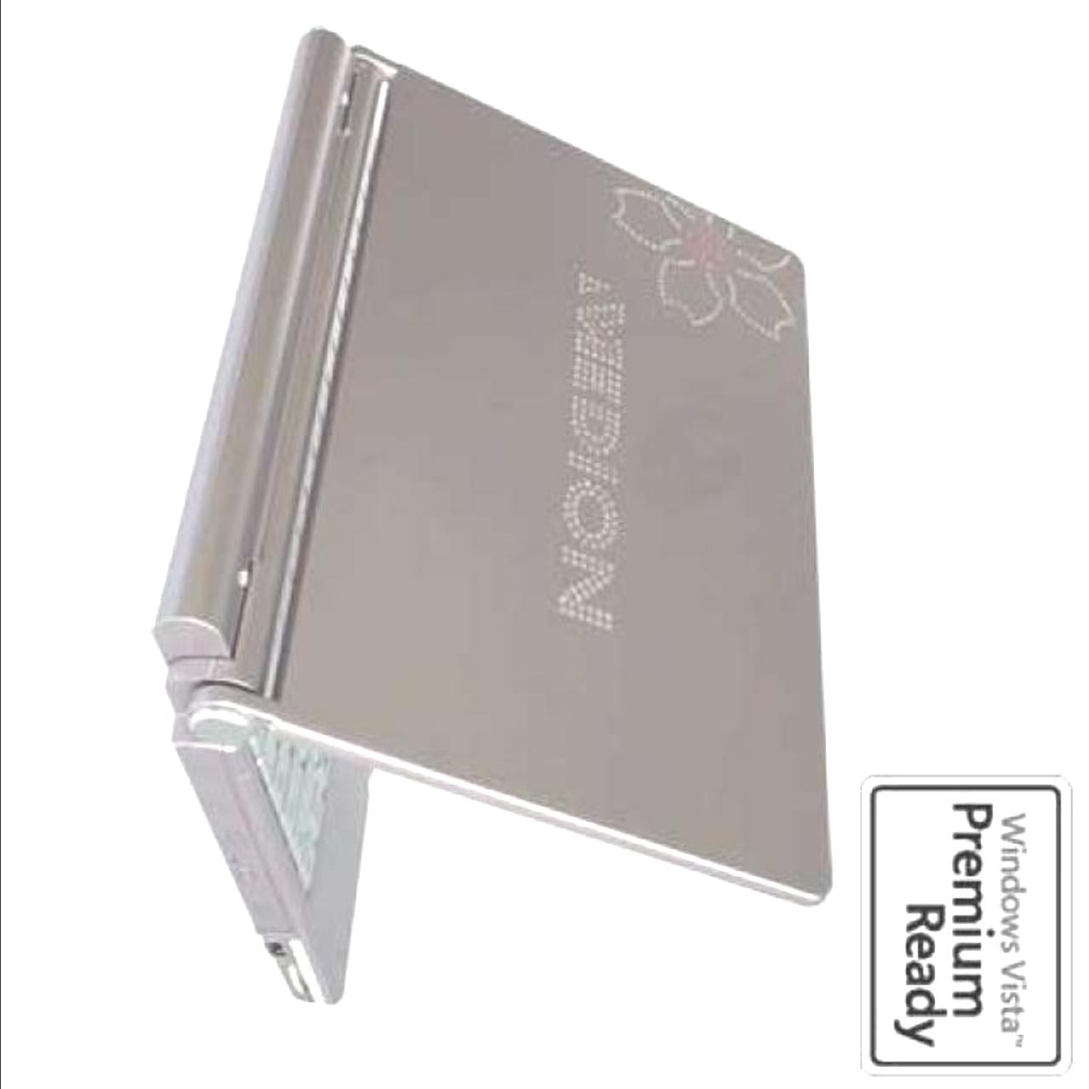laptop: (226, 218, 801, 892)
